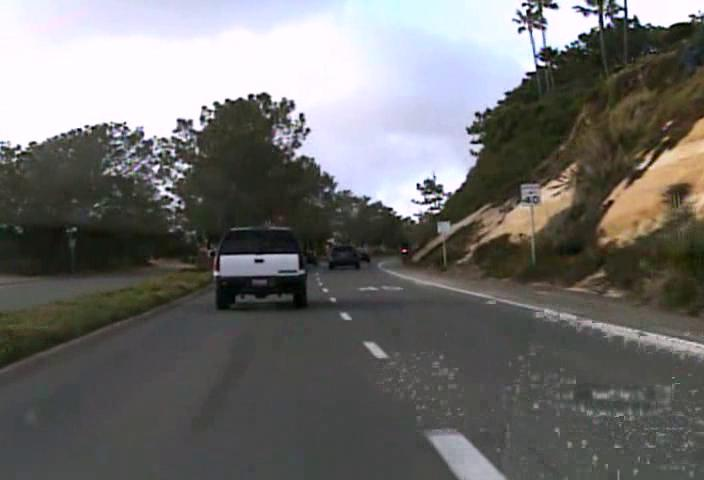speedLimit40: (519, 182, 541, 206)
